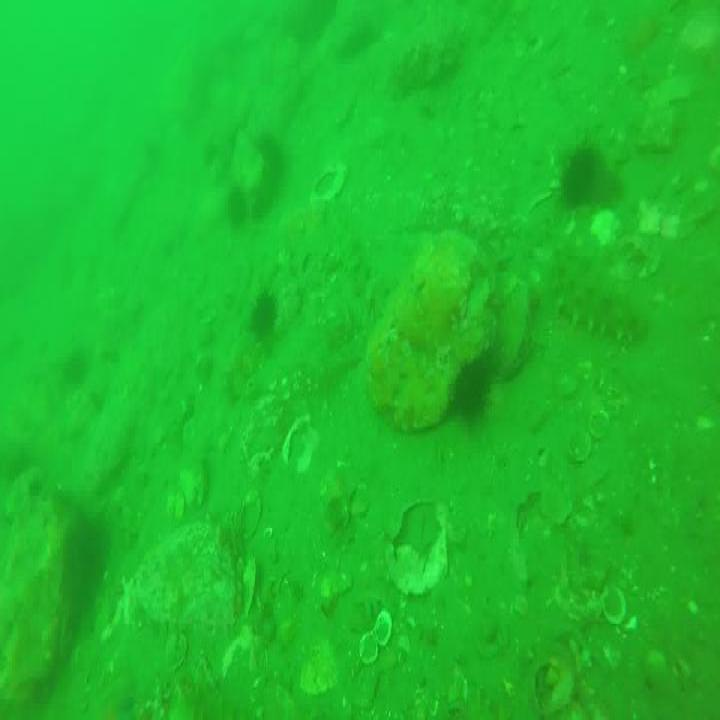echinus: (561, 142, 603, 208), (454, 359, 492, 423), (253, 286, 274, 340), (228, 185, 245, 231)
holothurian: (548, 251, 645, 345)
scallop: (566, 407, 612, 466), (221, 489, 263, 544), (359, 610, 396, 661), (326, 480, 372, 521), (234, 555, 258, 617), (163, 631, 191, 672), (176, 468, 207, 503), (598, 588, 625, 626)
